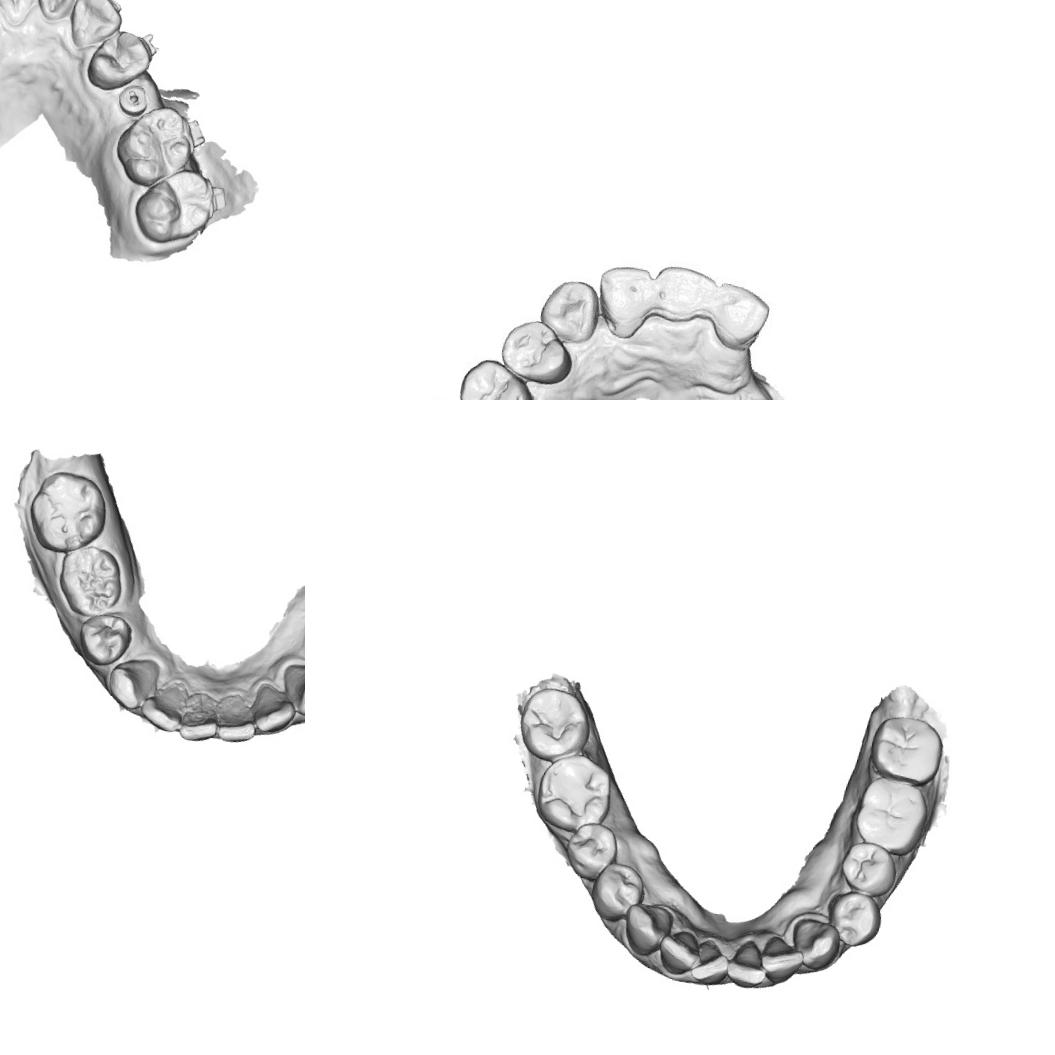canine: (536, 274, 606, 345), (618, 894, 678, 960), (785, 912, 844, 974), (62, 0, 126, 57), (102, 652, 156, 714), (276, 659, 305, 721)
implant_minus: (112, 79, 150, 122)
incisor: (647, 260, 725, 332), (704, 279, 774, 357), (591, 259, 658, 334), (136, 678, 192, 738), (204, 690, 262, 746), (754, 932, 807, 990), (721, 936, 775, 992), (248, 685, 300, 741), (653, 922, 703, 980), (176, 687, 225, 746), (686, 936, 734, 988), (28, 0, 84, 26), (0, 0, 41, 29)
molar: (107, 97, 199, 195), (126, 159, 220, 252), (21, 464, 114, 558), (528, 747, 618, 842), (510, 681, 598, 770), (847, 772, 934, 860), (50, 539, 130, 623), (864, 708, 948, 788)
premolar: (495, 314, 579, 388), (81, 24, 156, 98), (584, 857, 650, 928), (559, 816, 624, 887), (832, 838, 903, 902), (820, 886, 887, 952), (71, 606, 136, 672), (454, 353, 543, 400)
